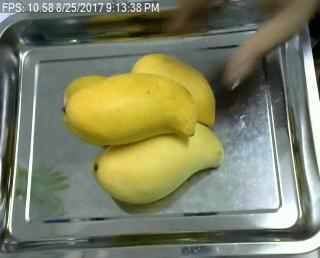Mango: (93, 119, 223, 207), (65, 71, 198, 144), (130, 54, 219, 126), (59, 75, 111, 105)
